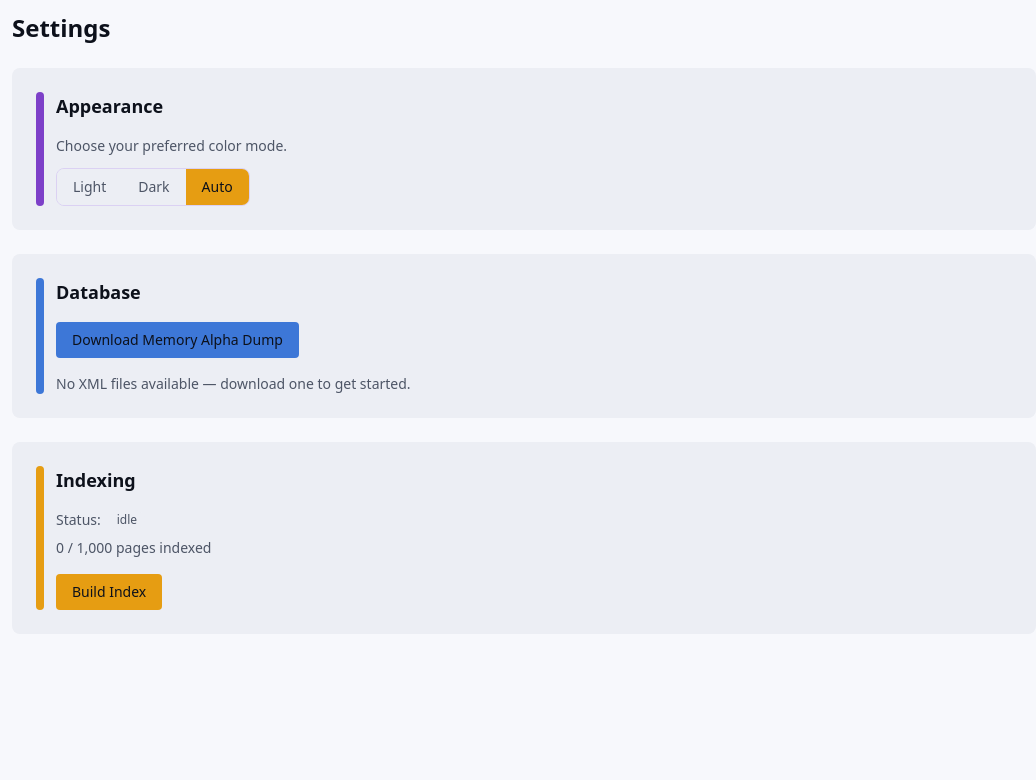
Test: SettingsPage › shows error message when start fails
Click the button "Build Index" at (109, 592), box [56,574,162,610]
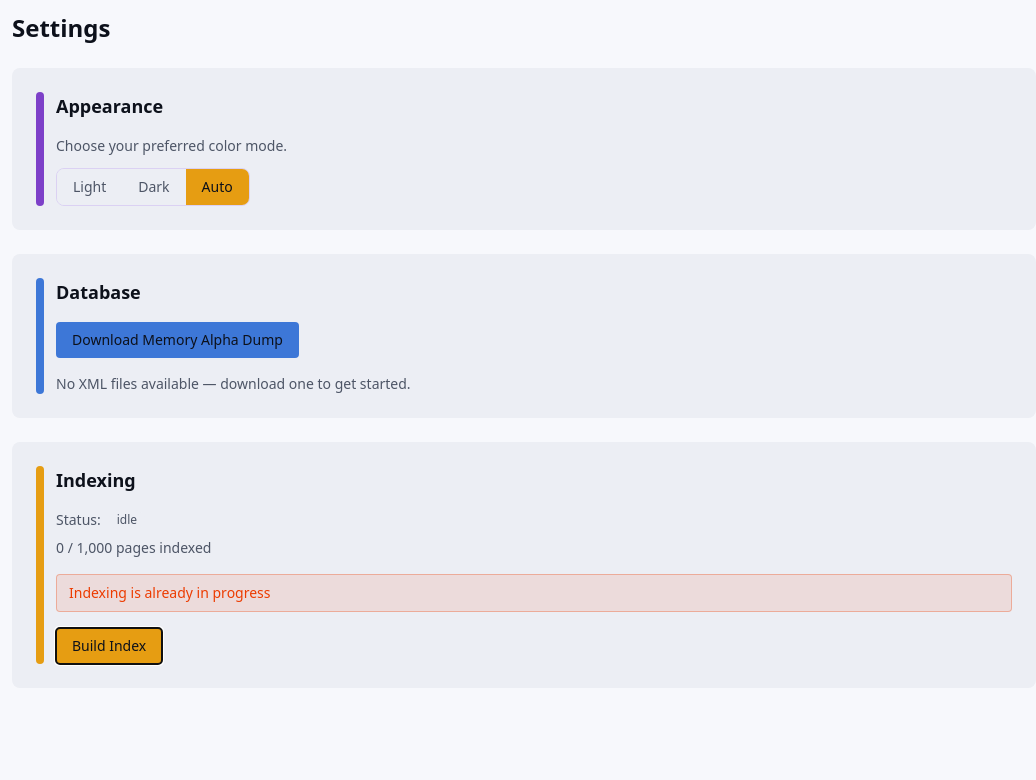
expect the text "Indexing is already in progress" is shown: met, box [56,574,1012,612]
